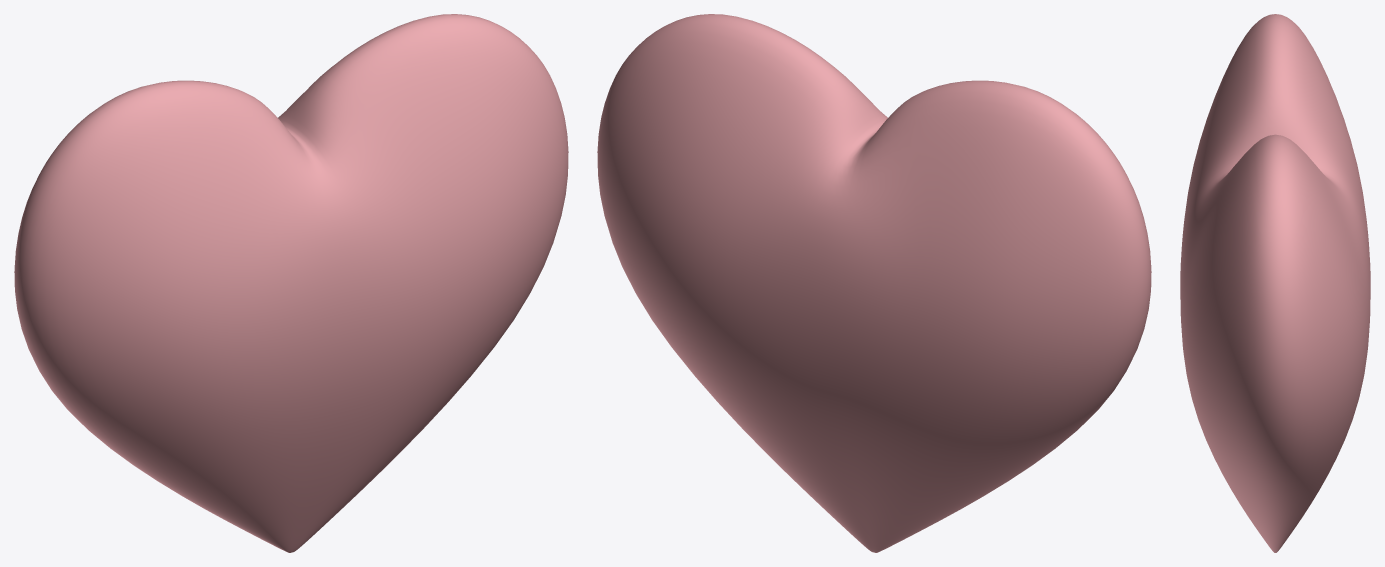
File: HEART.glb
3 views of the same model, side by side, from view 1: azimuth 30°, elevation 25°; view 2: azimuth 150°, elevation 25°; view 3: azimuth 270°, elevation 25° (orthographic). The views are drawn at different scales.
Parts seen in each view (by area): view 1: Cube; view 2: Cube; view 3: Cube.
Part boxes in pixels (bbox=[...]): Cube: bbox=[14, 14, 568, 552]; Cube: bbox=[597, 14, 1151, 552]; Cube: bbox=[1180, 14, 1370, 552].
Size of the model in its own units: 3.64 by 3.19 by 1.19.
